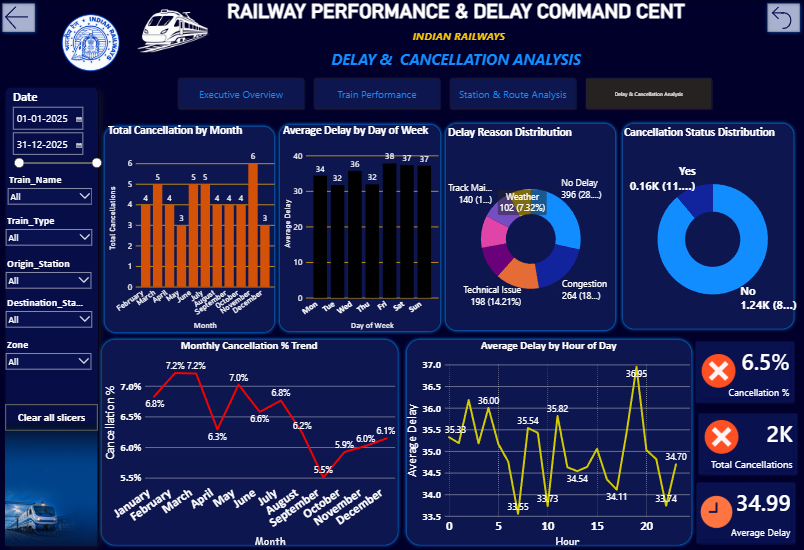

The dashboard page shown, as its layout file describes it:
{"tool":"powerbi","page":{"name":"Delay & Cancellation Analysis","canvas":[2050,1400],"ordinal":3},"visuals":[{"type":"shape","box":[252,854,772.2,540.8],"z":0},{"type":"shape","box":[1579.2,305.2,453.6,540.4],"z":1000},{"type":"shape","box":[1128.4,305.2,450.5,544.6],"z":2000},{"type":"shape","box":[705.6,308,427.7,544.6],"z":3000},{"type":"shape","box":[260.4,313.6,450.5,541.7],"z":4000},{"type":"shape","box":[1027.6,854,743.6,540.8],"z":5000},{"type":"textbox","box":[14,221.2,238,1164.8],"z":6000},{"type":"slicer","fields":{"Values":["Train_operations.Travel_Date"]},"box":[22.8,222.4,247,267.8],"z":7000},{"type":"slicer","fields":{"Values":["Trains.Train_Name"]},"box":[13,434.2,234,106.6],"z":8000},{"type":"image","box":[14,1075.2,235.2,319.2],"z":9000},{"type":"slicer","fields":{"Values":["Routes.Destination_Station"]},"box":[7.8,748.8,239.2,106.6],"z":10000},{"type":"slicer","fields":{"Values":["Routes.Origin_Station"]},"box":[7.8,650,236.6,96.2],"z":11000},{"type":"slicer","fields":{"Values":["Trains.Train_Type"]},"box":[7.8,540.8,239.2,109.2],"z":12000},{"type":"slicer","fields":{"Values":["Stations.Zone"]},"box":[7.8,855.4,236.6,117],"z":13000},{"type":"cardVisual","fields":{"Data":["ALL Measures.Average Delay"]},"box":[1775.2,1226.4,254.8,158.6],"z":14000},{"type":"cardVisual","fields":{"Data":["ALL Measures.Cancellation %"]},"box":[1772.4,868,254.8,158.6],"z":15000},{"type":"cardVisual","fields":{"Data":["ALL Measures.Total Cancellations"]},"box":[1778,1050,254.8,158.6],"z":16000},{"type":"clusteredColumnChart","title":"Average Delay by Day of Week","fields":{"Category":["Train_operations.Day of Week"],"Y":["ALL Measures.Average Delay"]},"box":[716.8,313.6,405.6,533],"z":17000},{"type":"donutChart","title":"Delay Reason Distribution","fields":{"Category":["Delay_reasons.Delay_Reason"],"Y":["ALL Measures.Total Operations"]},"box":[1136.8,319.2,431.6,533],"z":18000},{"type":"donutChart","title":"Cancellation Status Distribution","fields":{"Category":["Train_operations.Cancellation_Flag"],"Y":["CountNonNull(Train_operations.Record_ID)"]},"box":[1584.8,319.2,461.7,534.6],"z":19000},{"type":"lineChart","title":"Monthly Cancellation % Trend","fields":{"Category":["Train_operations.Travel_Date.Variation.Date Hierarchy.Month"],"Y":["ALL Measures.Cancellation %"]},"box":[260.4,859.6,754,540.8],"z":20000},{"type":"clusteredColumnChart","title":"Total Cancellation by Month","fields":{"Category":["Train_operations.Travel_Date.Variation.Date Hierarchy.Month"],"Y":["ALL Measures.Total Cancellations"]},"box":[271.6,313.6,434,532],"z":21000},{"type":"lineChart","title":"Average Delay by Hour of Day","fields":{"Category":["Train_operations.Hour"],"Y":["ALL Measures.Average Delay"]},"box":[1027.6,859.6,742,540.4],"z":22000},{"type":"image","box":[1778,1069.6,119.6,85.8],"z":23000},{"type":"image","box":[1758.4,1260,135.2,85.8],"z":24000},{"type":"actionButton","box":[0,0,100,90],"z":25000},{"type":"actionButton","box":[1947.4,0,100,90],"z":26000},{"type":"textbox","title":"RAILWAY PERFORMANCE & DELAY COMMAND CENT","box":[420,0,1486.8,190.4],"z":27000},{"type":"image","box":[148.2,0,247,221],"z":28000},{"type":"image","box":[348.4,0,189.8,156],"z":29000},{"type":"image","box":[1772.4,901.6,119.6,85.8],"z":30000},{"type":"pageNavigator","box":[448,190.4,1374.8,95.2],"z":31000},{"type":"actionButton","box":[14,1027.6,236.6,68.4],"z":32000}]}

Visuals, with their boxes in screenshot pixels (x1, y1, x2, y2), scaled from the page's 2050x1400 canvas onto the 804x550 screenshot:
shape: x1=99, y1=336, x2=402, y2=548
shape: x1=619, y1=120, x2=797, y2=332
shape: x1=443, y1=120, x2=619, y2=334
shape: x1=277, y1=121, x2=444, y2=335
shape: x1=102, y1=123, x2=279, y2=336
shape: x1=403, y1=336, x2=695, y2=548
textbox: x1=5, y1=87, x2=99, y2=544
slicer - Train_operations.Travel_Date: x1=9, y1=87, x2=106, y2=193
slicer - Trains.Train_Name: x1=5, y1=171, x2=97, y2=212
image: x1=5, y1=422, x2=98, y2=548
slicer - Routes.Destination_Station: x1=3, y1=294, x2=97, y2=336
slicer - Routes.Origin_Station: x1=3, y1=255, x2=96, y2=293
slicer - Trains.Train_Type: x1=3, y1=212, x2=97, y2=255
slicer - Stations.Zone: x1=3, y1=336, x2=96, y2=382
cardVisual - ALL Measures.Average Delay: x1=696, y1=482, x2=796, y2=544
cardVisual - ALL Measures.Cancellation %: x1=695, y1=341, x2=795, y2=403
cardVisual - ALL Measures.Total Cancellations: x1=697, y1=412, x2=797, y2=475
"Average Delay by Day of Week" clusteredColumnChart: x1=281, y1=123, x2=440, y2=333
"Delay Reason Distribution" donutChart: x1=446, y1=125, x2=615, y2=335
"Cancellation Status Distribution" donutChart: x1=622, y1=125, x2=803, y2=335
"Monthly Cancellation % Trend" lineChart: x1=102, y1=338, x2=398, y2=549
"Total Cancellation by Month" clusteredColumnChart: x1=107, y1=123, x2=277, y2=332
"Average Delay by Hour of Day" lineChart: x1=403, y1=338, x2=694, y2=549
image: x1=697, y1=420, x2=744, y2=454
image: x1=690, y1=495, x2=743, y2=529
actionButton: x1=0, y1=0, x2=39, y2=35
actionButton: x1=764, y1=0, x2=803, y2=35
"RAILWAY PERFORMANCE & DELAY COMMAND CENT" textbox: x1=165, y1=0, x2=748, y2=75
image: x1=58, y1=0, x2=155, y2=87
image: x1=137, y1=0, x2=211, y2=61
image: x1=695, y1=354, x2=742, y2=388
pageNavigator: x1=176, y1=75, x2=715, y2=112
actionButton: x1=5, y1=404, x2=98, y2=431
